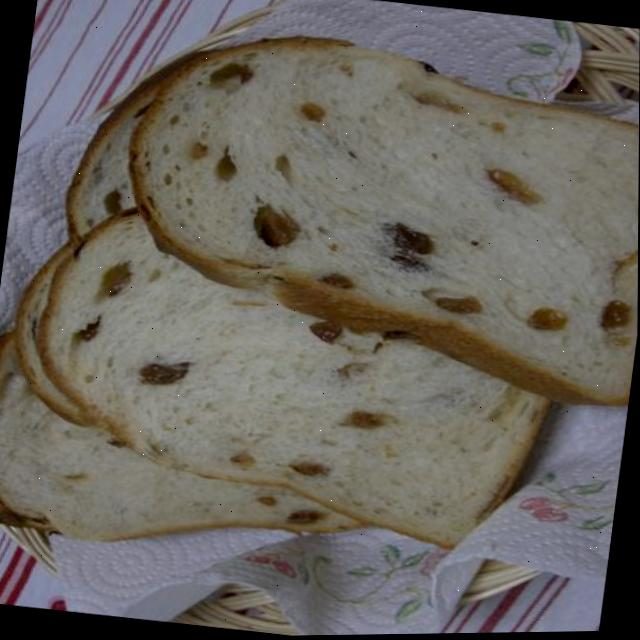面包点心: (0, 26, 640, 603)
